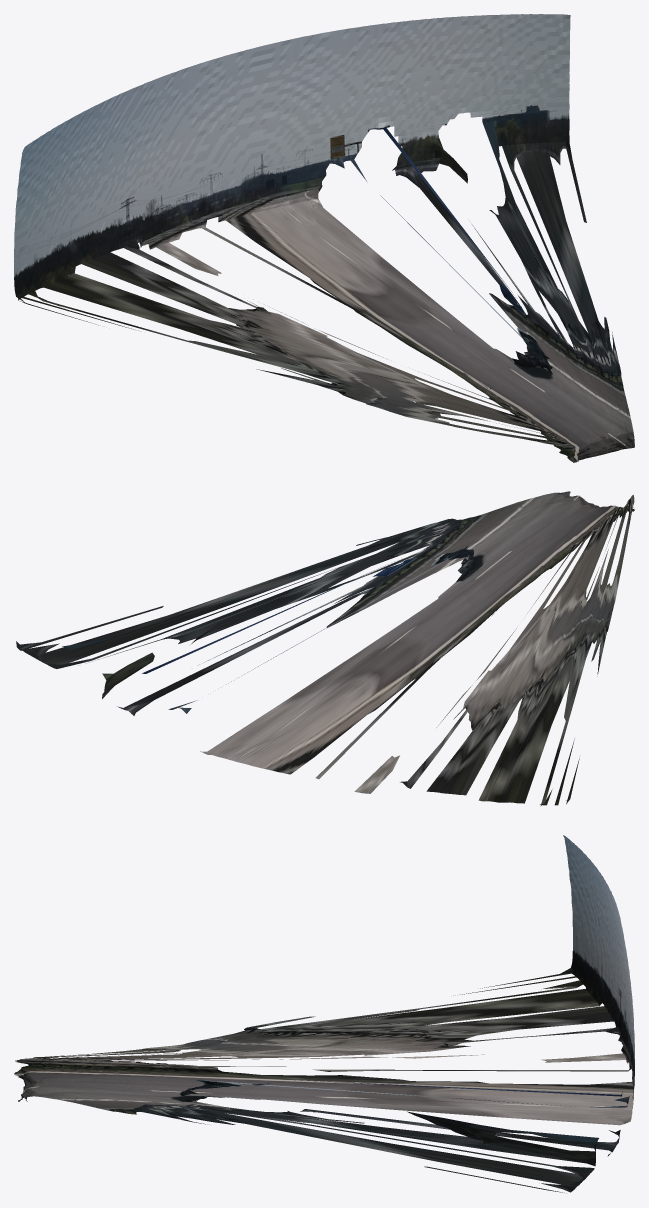
3 views of the same model, one above another, from view 1: azimuth 30°, elevation 25°; view 2: azimuth 150°, elevation 25°; view 3: azimuth 270°, elevation 25° (orthographic). The views are drawn at different scales.
Parts seen in each view (by area): view 1: defaultobject; view 2: defaultobject; view 3: defaultobject.
Boxes of the visible parts, x1=… form: defaultobject: x1=14, y1=14, x2=634, y2=462; defaultobject: x1=16, y1=491, x2=634, y2=806; defaultobject: x1=14, y1=835, x2=634, y2=1192.
Size of the model in its own units: 41.16 by 12.52 by 44.71.
Materials: 1 (1 with a texture image).
